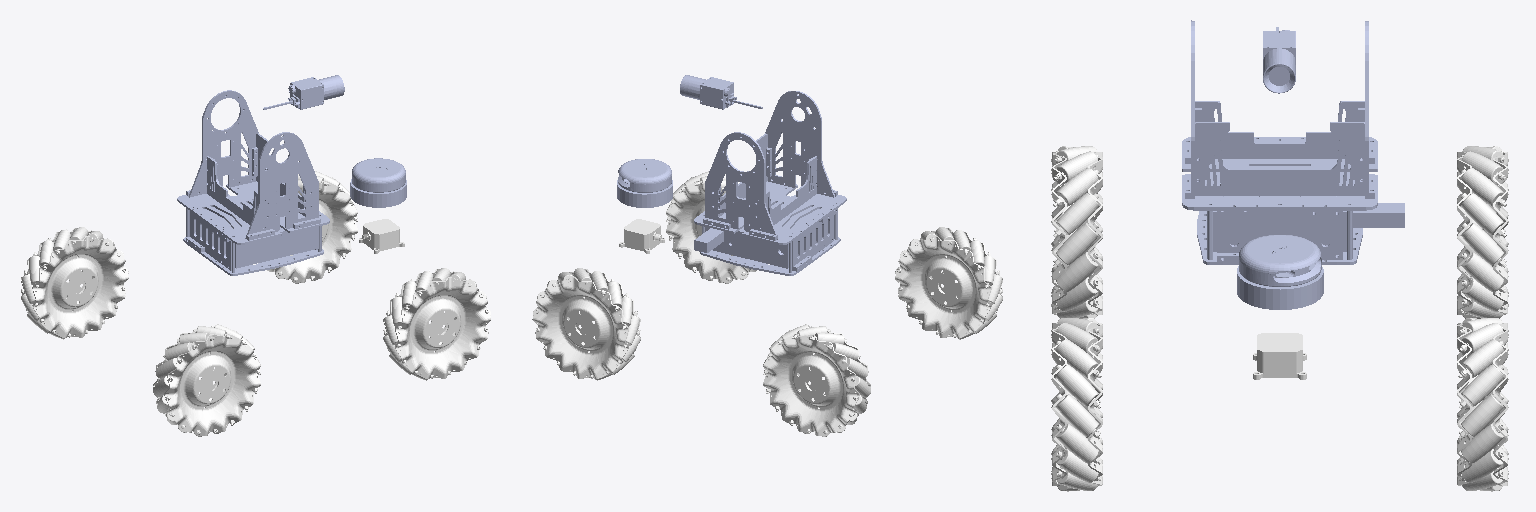
robot.urdf — auto_car:
<?xml version="1.0" encoding="utf-8"?>
<!-- This URDF was automatically created by SolidWorks to URDF Exporter! Originally created by [author] ([email redacted]) 
     Commit Version: 1.6.0-1-g15f4949  Build Version: 1.6.7594.29634
     For more information, please see http://wiki.ros.org/sw_urdf_exporter -->
<robot
  name="auto_car">
  <link
    name="base_link">
    <inertial>
      <origin
        xyz="-0.0076937 0.00027882 0.034364"
        rpy="0 0 0" />
      <mass
        value="2.6326" />
      <inertia
        ixx="0.0046832"
        ixy="1.2407E-07"
        ixz="-9.8798E-06"
        iyy="0.0044338"
        iyz="5.1418E-08"
        izz="0.0071439" />
    </inertial>
    <visual>
      <origin
        xyz="0 0 0"
        rpy="0 0 0" />
      <geometry>
        <mesh
          filename="package://auto_car/meshes/base_link.STL" />
      </geometry>
      <material
        name="">
        <color
          rgba="0.79216 0.81961 0.93333 1" />
      </material>
    </visual>
    <collision>
      <origin
        xyz="0 0 0"
        rpy="0 0 0" />
      <geometry>
        <mesh
          filename="package://auto_car/meshes/base_link.STL" />
      </geometry>
    </collision>
  </link>
  <link
    name="lf_wheel_link">
    <inertial>
      <origin
        xyz="1.0538E-05 -0.014796 -5.4972E-05"
        rpy="0 0 0" />
      <mass
        value="0.22482" />
      <inertia
        ixx="0.0001051"
        ixy="-1.0031E-08"
        ixz="5.6889E-08"
        iyy="0.00018754"
        iyz="9.9276E-10"
        izz="0.00010567" />
    </inertial>
    <visual>
      <origin
        xyz="0 0 0"
        rpy="0 0 0" />
      <geometry>
        <mesh
          filename="package://auto_car/meshes/lf_wheel_link.STL" />
      </geometry>
      <material
        name="">
        <color
          rgba="1 1 1 1" />
      </material>
    </visual>
    <collision>
      <origin
        xyz="0 0 0"
        rpy="0 0 0" />
      <geometry>
        <mesh
          filename="package://auto_car/meshes/lf_wheel_link.STL" />
      </geometry>
    </collision>
  </link>
  <joint
    name="lf_wheel_joint"
    type="continuous">
    <origin
      xyz="0.18033 0.1915 -0.0202"
      rpy="0 0 0" />
    <parent
      link="base_link" />
    <child
      link="lf_wheel_link" />
    <axis
      xyz="0 1 0" />
  </joint>
  <link
    name="lr_wheel_link">
    <inertial>
      <origin
        xyz="1.08124152059519E-05 -0.0142024592726423 -5.639620454162E-05"
        rpy="0 0 0" />
      <mass
        value="0.219116837517625" />
      <inertia
        ixx="0.000103892472303882"
        ixy="1.00363234478891E-08"
        ixz="5.70705000224816E-08"
        iyy="0.000185143039906161"
        iyz="-9.93422048429029E-10"
        izz="0.00010446645779443" />
    </inertial>
    <visual>
      <origin
        xyz="0 0 0"
        rpy="0 0 0" />
      <geometry>
        <mesh
          filename="package://auto_car/meshes/lr_wheel_link.STL" />
      </geometry>
      <material
        name="">
        <color
          rgba="1 1 1 1" />
      </material>
    </visual>
    <collision>
      <origin
        xyz="0 0 0"
        rpy="0 0 0" />
      <geometry>
        <mesh
          filename="package://auto_car/meshes/lr_wheel_link.STL" />
      </geometry>
    </collision>
  </link>
  <joint
    name="lr_wheel_joint"
    type="continuous">
    <origin
      xyz="-0.17433 0.1915 -0.0202"
      rpy="0 0 0" />
    <parent
      link="base_link" />
    <child
      link="lr_wheel_link" />
    <axis
      xyz="0 1 0" />
  </joint>
  <link
    name="rf_wheel_link">
    <inertial>
      <origin
        xyz="1.08127075754694E-05 0.0143979407936491 -5.63961805687407E-05"
        rpy="0 0 0" />
      <mass
        value="0.219116837467341" />
      <inertia
        ixx="0.000103892471021254"
        ixy="1.00365972451221E-08"
        ixz="5.70712913554494E-08"
        iyy="0.000185143040359883"
        iyz="-9.93483701366587E-10"
        izz="0.000104466459598403" />
    </inertial>
    <visual>
      <origin
        xyz="0 0 0"
        rpy="0 0 0" />
      <geometry>
        <mesh
          filename="package://auto_car/meshes/rf_wheel_link.STL" />
      </geometry>
      <material
        name="">
        <color
          rgba="1 1 1 1" />
      </material>
    </visual>
    <collision>
      <origin
        xyz="0 0 0"
        rpy="0 0 0" />
      <geometry>
        <mesh
          filename="package://auto_car/meshes/rf_wheel_link.STL" />
      </geometry>
    </collision>
  </link>
  <joint
    name="rf_wheel_joint"
    type="continuous">
    <origin
      xyz="0.18033 -0.1915 -0.0202"
      rpy="0 0 0" />
    <parent
      link="base_link" />
    <child
      link="rf_wheel_link" />
    <axis
      xyz="0 -1 0" />
  </joint>
  <link
    name="rr_wheel_link">
    <inertial>
      <origin
        xyz="1.0538E-05 0.013805 -5.4972E-05"
        rpy="0 0 0" />
      <mass
        value="0.22482" />
      <inertia
        ixx="0.0001051"
        ixy="-1.0031E-08"
        ixz="5.6889E-08"
        iyy="0.00018754"
        iyz="9.929E-10"
        izz="0.00010567" />
    </inertial>
    <visual>
      <origin
        xyz="0 0 0"
        rpy="0 0 0" />
      <geometry>
        <mesh
          filename="package://auto_car/meshes/rr_wheel_link.STL" />
      </geometry>
      <material
        name="">
        <color
          rgba="1 1 1 1" />
      </material>
    </visual>
    <collision>
      <origin
        xyz="0 0 0"
        rpy="0 0 0" />
      <geometry>
        <mesh
          filename="package://auto_car/meshes/rr_wheel_link.STL" />
      </geometry>
    </collision>
  </link>
  <joint
    name="rr_wheel_joint"
    type="continuous">
    <origin
      xyz="-0.17433 -0.1915 -0.0202"
      rpy="0 0 0" />
    <parent
      link="base_link" />
    <child
      link="rr_wheel_link" />
    <axis
      xyz="0 -1 0" />
  </joint>
  <link
    name="imu_link">
    <inertial>
      <origin
        xyz="-0.00049093 8.335E-08 0.012123"
        rpy="0 0 0" />
      <mass
        value="0.015203" />
      <inertia
        ixx="3.5859E-06"
        ixy="1.0704E-13"
        ixz="-1.6004E-09"
        iyy="3.4532E-06"
        iyz="5.2624E-13"
        izz="5.6462E-06" />
    </inertial>
    <visual>
      <origin
        xyz="0 0 0"
        rpy="0 0 0" />
      <geometry>
        <mesh
          filename="package://auto_car/meshes/imu_link.STL" />
      </geometry>
      <material
        name="">
        <color
          rgba="1 1 1 1" />
      </material>
    </visual>
    <collision>
      <origin
        xyz="0 0 0"
        rpy="0 0 0" />
      <geometry>
        <mesh
          filename="package://auto_car/meshes/imu_link.STL" />
      </geometry>
    </collision>
  </link>
  <joint
    name="imu_joint"
    type="fixed">
    <origin
      xyz="0.1975 0 0.023"
      rpy="0 0 0" />
    <parent
      link="base_link" />
    <child
      link="imu_link" />
    <axis
      xyz="0 0 0" />
  </joint>
  <link
    name="lidar_link">
    <inertial>
      <origin
        xyz="-0.00046525 -0.00042291 -0.021518"
        rpy="0 0 0" />
      <mass
        value="0.16704" />
      <inertia
        ixx="6.2214E-05"
        ixy="1.0964E-06"
        ixz="1.7756E-08"
        iyy="6.1763E-05"
        iyz="1.4397E-08"
        izz="0.00011279" />
    </inertial>
    <visual>
      <origin
        xyz="0 0 0"
        rpy="0 0 0" />
      <geometry>
        <mesh
          filename="package://auto_car/meshes/lidar_link.STL" />
      </geometry>
      <material
        name="">
        <color
          rgba="0.79216 0.81961 0.93333 1" />
      </material>
    </visual>
    <collision>
      <origin
        xyz="0 0 0"
        rpy="0 0 0" />
      <geometry>
        <mesh
          filename="package://auto_car/meshes/lidar_link.STL" />
      </geometry>
    </collision>
  </link>
  <joint
    name="lidar_joint"
    type="continuous">
    <origin
      xyz="0.19304 0.0002582 0.1355"
      rpy="0 0 0" />
    <parent
      link="base_link" />
    <child
      link="lidar_link" />
    <axis
      xyz="0 0 1" />
  </joint>
  <link
    name="yaw_link">
    <inertial>
      <origin
        xyz="0.0016177 0.00088105 0.035665"
        rpy="0 0 0" />
      <mass
        value="0.90257" />
      <inertia
        ixx="0.0015118"
        ixy="-5.1443E-05"
        ixz="-4.1322E-06"
        iyy="0.0013289"
        iyz="-7.355E-06"
        izz="0.0024712" />
    </inertial>
    <visual>
      <origin
        xyz="0 0 0"
        rpy="0 0 0" />
      <geometry>
        <mesh
          filename="package://auto_car/meshes/yaw_link.STL" />
      </geometry>
      <material
        name="">
        <color
          rgba="0.79216 0.81961 0.93333 1" />
      </material>
    </visual>
    <collision>
      <origin
        xyz="0 0 0"
        rpy="0 0 0" />
      <geometry>
        <mesh
          filename="package://auto_car/meshes/yaw_link.STL" />
      </geometry>
    </collision>
  </link>
  <joint
    name="yaw_joint"
    type="continuous">
    <origin
      xyz="0 0 0.064"
      rpy="0 0 0" />
    <parent
      link="base_link" />
    <child
      link="yaw_link" />
    <axis
      xyz="0 0 -1" />
  </joint>
  <link
    name="pitch_link">
    <inertial>
      <origin
        xyz="0.0038532 -0.0046719 0.04876"
        rpy="0 0 0" />
      <mass
        value="1.2356" />
      <inertia
        ixx="0.0008638"
        ixy="1.9361E-06"
        ixz="1.4909E-05"
        iyy="0.0010199"
        iyz="-1.2191E-06"
        izz="0.0014462" />
    </inertial>
    <visual>
      <origin
        xyz="0 0 0"
        rpy="0 0 0" />
      <geometry>
        <mesh
          filename="package://auto_car/meshes/pitch_link.STL" />
      </geometry>
      <material
        name="">
        <color
          rgba="0.79216 0.81961 0.93333 1" />
      </material>
    </visual>
    <collision>
      <origin
        xyz="0 0 0"
        rpy="0 0 0" />
      <geometry>
        <mesh
          filename="package://auto_car/meshes/pitch_link.STL" />
      </geometry>
    </collision>
  </link>
  <joint
    name="pitch_joint"
    type="revolute">
    <origin
      xyz="-0.015183 -0.0015402 0.14265"
      rpy="0 0 0" />
    <parent
      link="yaw_link" />
    <child
      link="pitch_link" />
    <axis
      xyz="0 1 0" />
    <limit
      lower="1.53"
      upper="-1.53"
      effort="0"
      velocity="0" />
  </joint>
  <link
    name="cam_link">
    <inertial>
      <origin
        xyz="-0.033363 1.8912E-05 -7.787E-05"
        rpy="0 0 0" />
      <mass
        value="0.1358" />
      <inertia
        ixx="1.7141E-05"
        ixy="4.9536E-08"
        ixz="-4.6015E-07"
        iyy="5.9569E-05"
        iyz="-8.8006E-08"
        izz="5.9444E-05" />
    </inertial>
    <visual>
      <origin
        xyz="0 0 0"
        rpy="0 0 0" />
      <geometry>
        <mesh
          filename="package://auto_car/meshes/cam_link.STL" />
      </geometry>
      <material
        name="">
        <color
          rgba="0.79216 0.81961 0.93333 1" />
      </material>
    </visual>
    <collision>
      <origin
        xyz="0 0 0"
        rpy="0 0 0" />
      <geometry>
        <mesh
          filename="package://auto_car/meshes/cam_link.STL" />
      </geometry>
    </collision>
  </link>
  <joint
    name="cam_joint"
    type="fixed">
    <origin
      xyz="0.142 0.0010399 0.065"
      rpy="0 0 0" />
    <parent
      link="pitch_link" />
    <child
      link="cam_link" />
    <axis
      xyz="0 0 0" />
  </joint>
</robot>

--- Render facts (derived) ---
Views: 3 orthographic renders of the robot side by side, from view 1: azimuth 30°, elevation 25°; view 2: azimuth 150°, elevation 25°; view 3: azimuth 270°, elevation 25°.
Robot: auto_car — 10 links, 9 joints (1 revolute, 6 continuous, 2 fixed); root link base_link; default pose: all joints at 0.
Links seen in each view (by area): view 1: yaw_link, lr_wheel_link, rr_wheel_link, rf_wheel_link, lf_wheel_link, lidar_link, cam_link, imu_link; view 2: yaw_link, lr_wheel_link, rr_wheel_link, lf_wheel_link, rf_wheel_link, lidar_link, cam_link, imu_link; view 3: yaw_link, rf_wheel_link, lf_wheel_link, lr_wheel_link, rr_wheel_link, lidar_link, imu_link, cam_link.
Link boxes in pixels (x1,y1,x2,y2): yaw_link: (177, 90, 329, 275); lr_wheel_link: (21, 227, 128, 339); rr_wheel_link: (153, 324, 260, 436); rf_wheel_link: (383, 268, 490, 380); lf_wheel_link: (267, 171, 357, 283); lidar_link: (350, 158, 406, 207); cam_link: (263, 75, 344, 109); imu_link: (359, 219, 404, 253); yaw_link: (694, 91, 846, 275); lr_wheel_link: (763, 324, 870, 436); rr_wheel_link: (895, 227, 1002, 339); lf_wheel_link: (532, 268, 640, 380); rf_wheel_link: (666, 171, 756, 283); lidar_link: (617, 159, 672, 207); cam_link: (680, 75, 762, 109); imu_link: (619, 219, 664, 253); yaw_link: (1182, 20, 1404, 264); rf_wheel_link: (1051, 318, 1102, 491); lf_wheel_link: (1457, 318, 1508, 491); lr_wheel_link: (1457, 146, 1508, 318); rr_wheel_link: (1051, 146, 1102, 318); lidar_link: (1237, 235, 1323, 309); imu_link: (1253, 333, 1306, 379); cam_link: (1263, 27, 1295, 93).
Size in the robot's own frame: 0.5068 by 0.3999 by 0.3824 metres.
8 mesh visuals loaded from 10 distinct referenced files (8 binary STL); not drawn: 2 (reference not matched to a file when rendering).